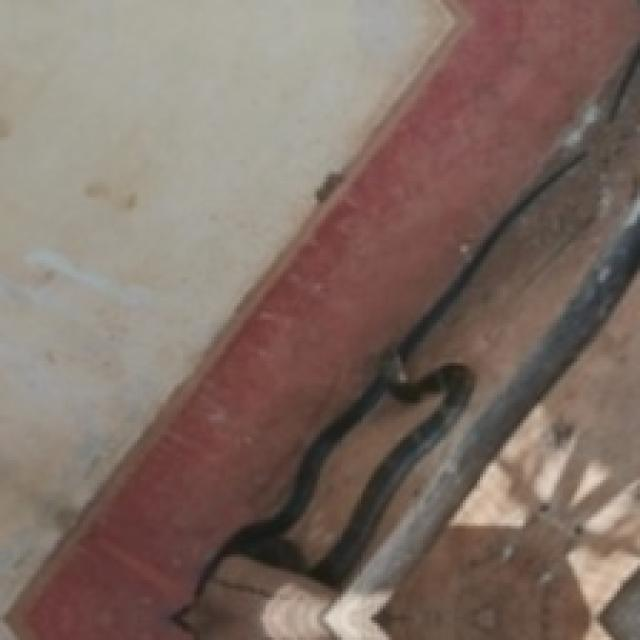king cobra: (183, 40, 637, 637), (426, 557, 560, 637)
